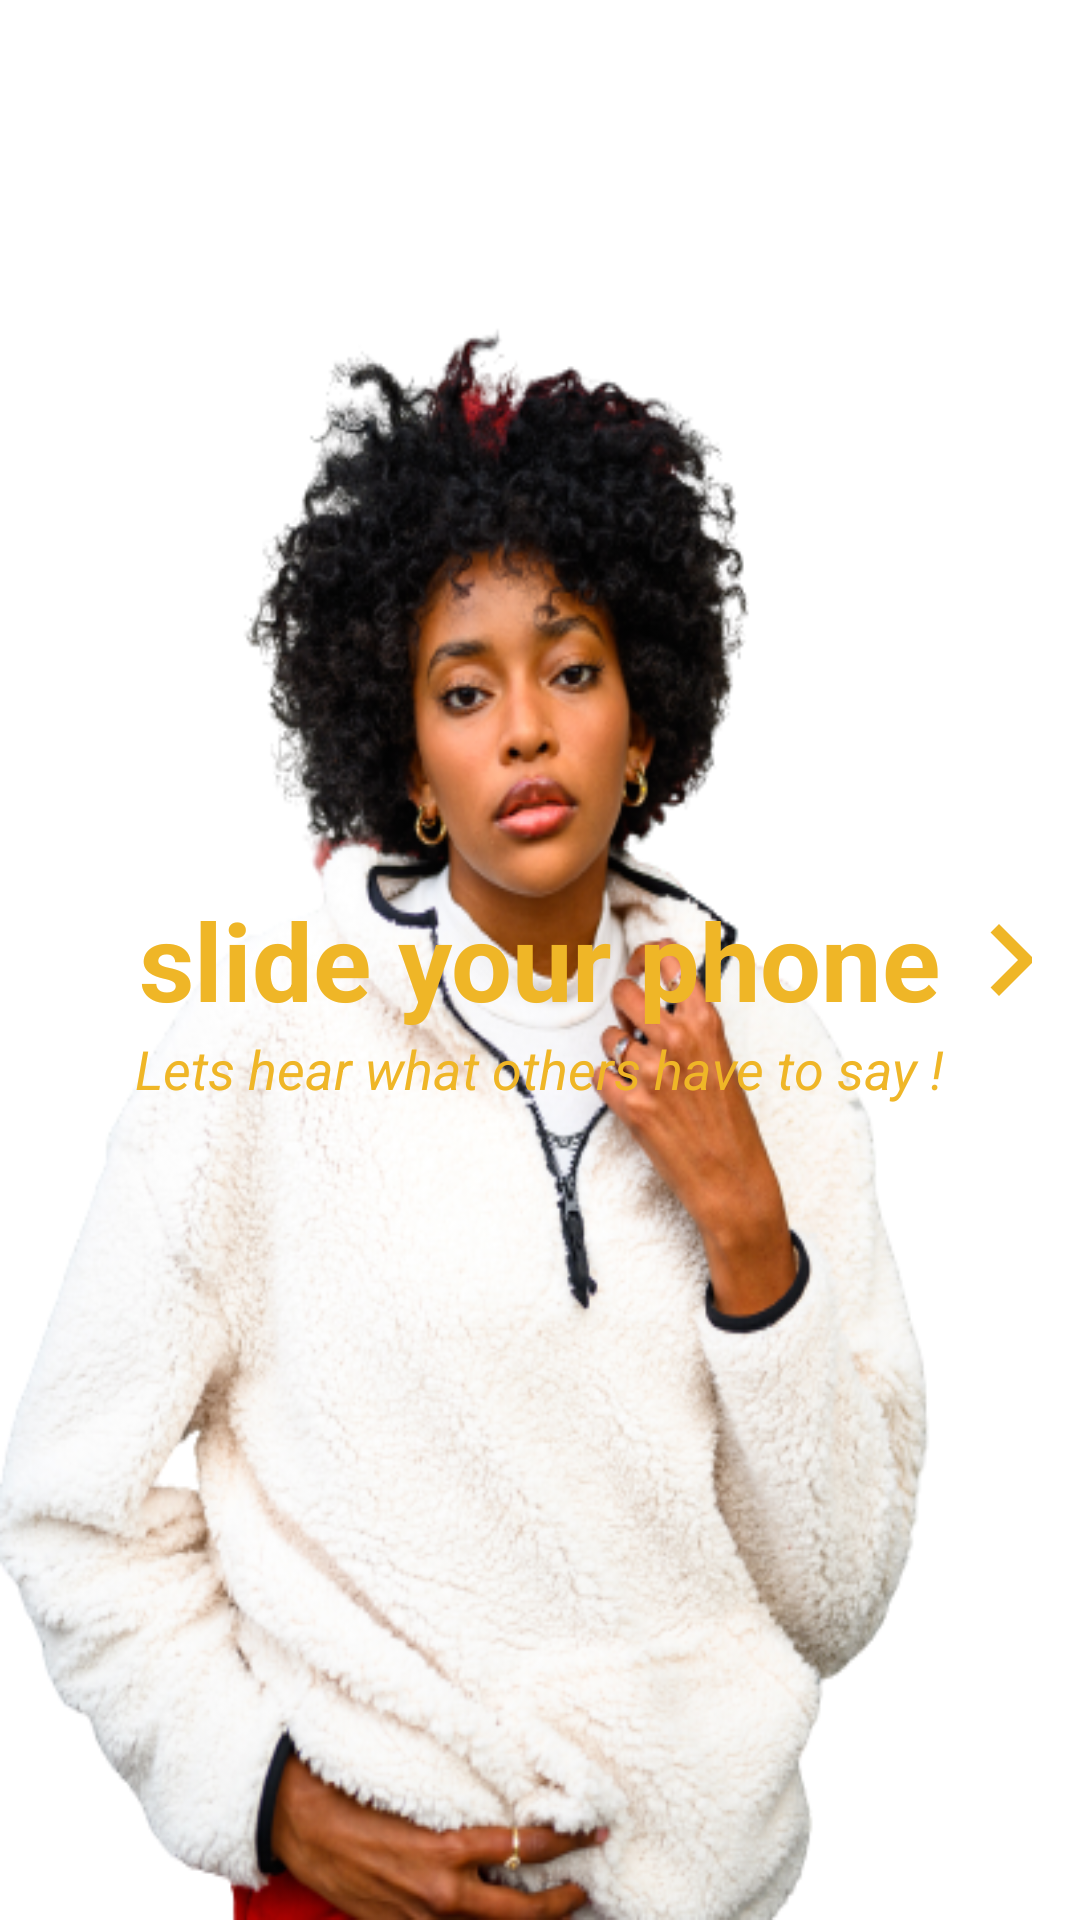

Where icons sit on this 1080px x 1920px app screen, as bbox=[x1, y1, x2, y2]:
right chevron: bbox=[990, 924, 1032, 996]
